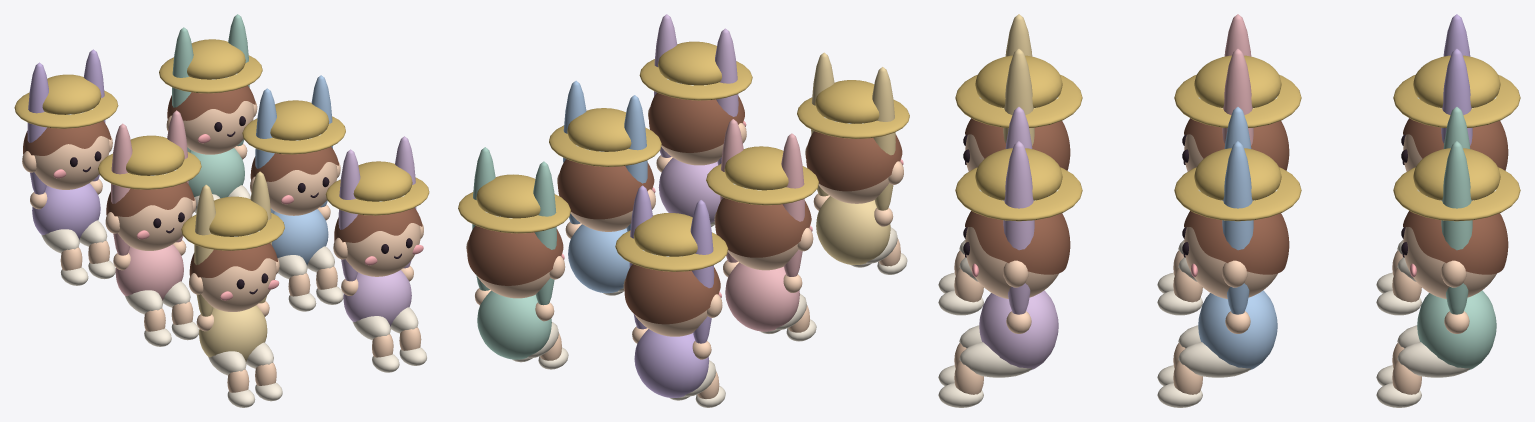
Rendered from sea-characters-high.glb.
3 views of the same model, side by side, from view 1: azimuth 30°, elevation 25°; view 2: azimuth 150°, elevation 25°; view 3: azimuth 270°, elevation 25° (orthographic). The views are drawn at different scales.
Parts seen in each view (by area): view 1: Hat brim.001, Hat brim.003, Hat brim, Hat brim.005, Hat brim.002, Hat brim.004, Ear.008, Ear.010, Ear, Ear.004, Ear.006, Body.002 (+29 smaller); view 2: Hat brim.005, Hat brim, Hat brim.002, Hat brim.001, Hat brim.004, Hat brim.003, Chestnut cap, Chestnut cap.001, Chestnut cap.004, Chestnut cap.002, Chestnut cap.003, Chestnut cap.005 (+28 smaller); view 3: Hat brim.005, Hat brim.001, Hat brim.003, Hat brim, Hat brim.002, Hat brim.004, Body.005, Body.001, Body.003, Chestnut cap.003, Chestnut cap.005, Chestnut cap.001 (+27 smaller).
Boxes of the visible parts, x1=… form: Hat brim.001: x1=159, y1=39, x2=262, y2=93; Hat brim.003: x1=242, y1=100, x2=345, y2=154; Hat brim: x1=14, y1=74, x2=118, y2=128; Hat brim.005: x1=325, y1=161, x2=429, y2=215; Hat brim.002: x1=98, y1=135, x2=201, y2=189; Hat brim.004: x1=181, y1=196, x2=284, y2=250; Ear.008: x1=189, y1=258, x2=279, y2=392; Ear.010: x1=333, y1=223, x2=423, y2=357; Ear: x1=22, y1=136, x2=112, y2=270; Ear.004: x1=105, y1=197, x2=196, y2=331; Ear.006: x1=250, y1=162, x2=340, y2=296; Body.002: x1=115, y1=244, x2=183, y2=300; Hat brim.005: x1=639, y1=41, x2=752, y2=100; Hat brim: x1=615, y1=213, x2=728, y2=271; Hat brim.002: x1=706, y1=146, x2=818, y2=205; Hat brim.001: x1=458, y1=174, x2=570, y2=233; Hat brim.004: x1=797, y1=80, x2=909, y2=138; Hat brim.003: x1=549, y1=108, x2=661, y2=166; Chestnut cap: x1=624, y1=264, x2=720, y2=324; Chestnut cap.001: x1=467, y1=226, x2=563, y2=285; Chestnut cap.004: x1=806, y1=131, x2=902, y2=191; Chestnut cap.002: x1=715, y1=198, x2=811, y2=257; Chestnut cap.003: x1=558, y1=159, x2=654, y2=219; Chestnut cap.005: x1=649, y1=93, x2=744, y2=152; Hat brim.005: x1=955, y1=148, x2=1082, y2=221; Hat brim.001: x1=1393, y1=148, x2=1520, y2=221; Hat brim.003: x1=1174, y1=148, x2=1301, y2=221; Hat brim: x1=1393, y1=55, x2=1520, y2=127; Hat brim.002: x1=1174, y1=55, x2=1301, y2=127; Hat brim.004: x1=955, y1=55, x2=1082, y2=127; Body.005: x1=979, y1=290, x2=1058, y2=370; Body.001: x1=1417, y1=290, x2=1496, y2=370; Body.003: x1=1198, y1=290, x2=1277, y2=370; Chestnut cap.003: x1=1184, y1=210, x2=1289, y2=274; Chestnut cap.005: x1=965, y1=211, x2=1070, y2=274; Chestnut cap.001: x1=1403, y1=211, x2=1508, y2=274.
Size of the model in its own units: 1.8 by 1.52 by 2.92.
